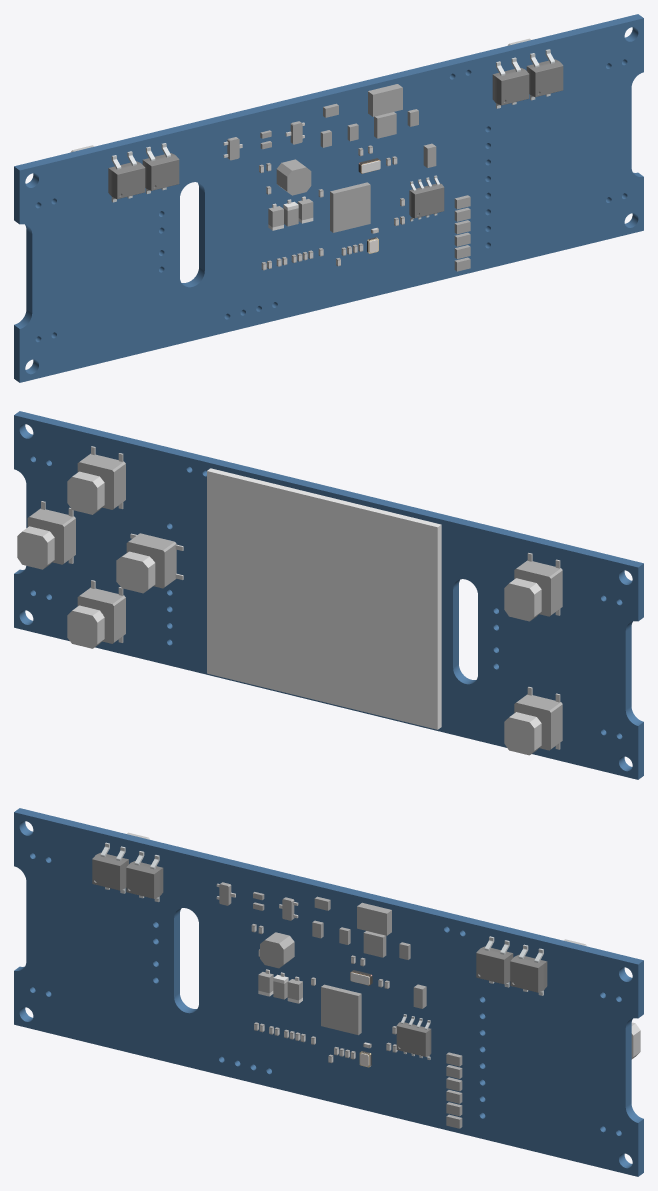
File: Eink.glb
The picture shows the model from 3 angles, top to bottom: view 1: azimuth 30°, elevation 25°; view 2: azimuth 150°, elevation 25°; view 3: azimuth 330°, elevation 25°; orthographic projection.
Parts seen in each view (by area): view 1: Mesh (×10); view 2: Mesh (×14); view 3: Mesh (×10).
Part boxes in pixels (box(x1,y1,x2,y2)): Mesh (×10): box(14, 14, 643, 382); Mesh (×14): box(14, 411, 643, 779); Mesh (×10): box(14, 808, 643, 1176).
Size of the model in its own units: 0.1 by 0.0325 by 0.0116.
